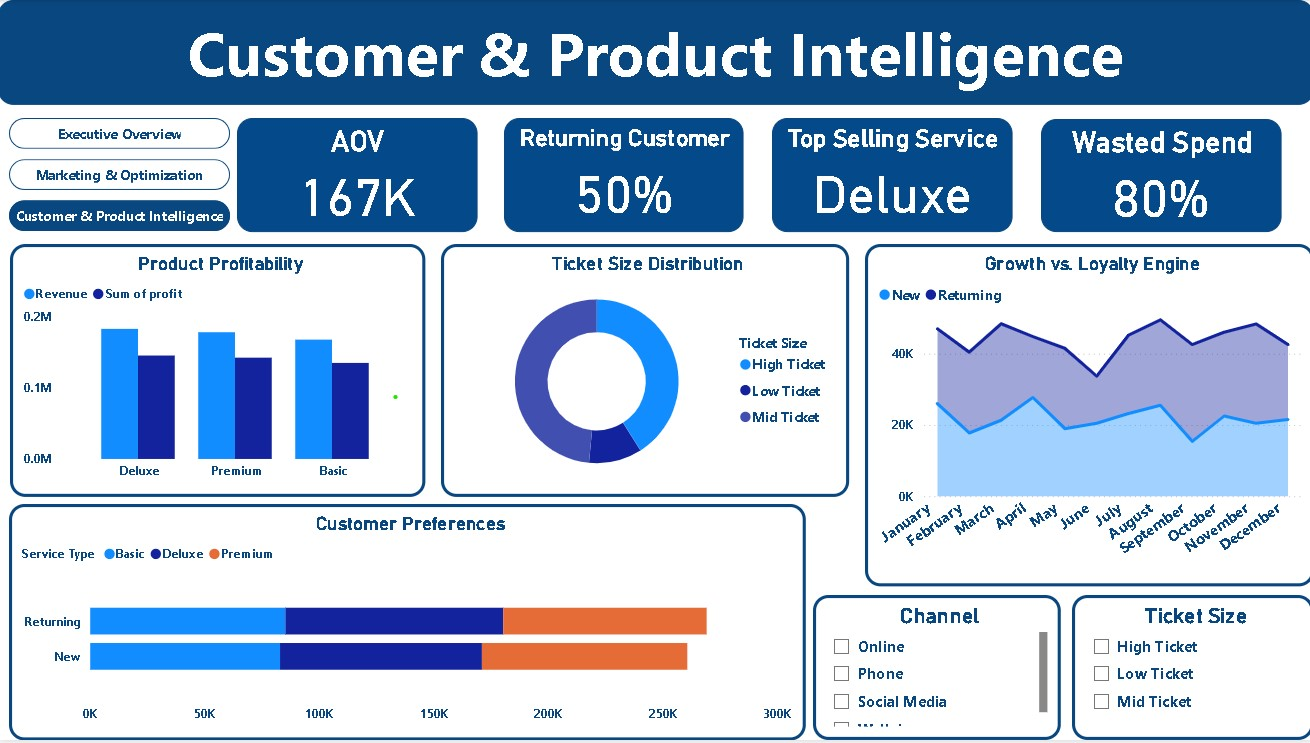

The dashboard page shown, as its layout file describes it:
{"tool":"powerbi","page":{"name":"Customer & Product Intelligence","canvas":[1280,720],"ordinal":2},"visuals":[{"type":"textbox","box":[0,0,1280,102.1],"z":0},{"type":"card","title":"AOV","fields":{"Values":["Sum(Data___Sheet1.AOV)"]},"box":[232.7,115,233.6,110.6],"z":1000},{"type":"card","title":"Returning Customer","fields":{"Values":["Data___Sheet1.Returning Customer %"]},"box":[492.6,115,232.7,110.6],"z":2000},{"type":"card","title":"Wasted Spend","fields":{"Values":["Data___Sheet1.Service Profit Margin %"]},"box":[1014.1,115.9,233.6,109.8],"z":3000},{"type":"card","title":"Top Selling Service","fields":{"Values":["Min(Data___Sheet1.Service Type)"]},"box":[752.5,115,233.6,110.6],"z":4000},{"type":"pageNavigator","box":[10.5,115,215.1,110.6],"z":5000},{"type":"clusteredColumnChart","title":"Product Profitability","fields":{"Category":["Data___Sheet1.Service Type"],"Y":["Data___Sheet1.Revenue","Sum(Data___Sheet1.profit)"]},"box":[11.7,237.3,403.6,246.1],"z":6000},{"type":"donutChart","title":"Ticket Size Distribution","fields":{"Y":["Data___Sheet1.Revenue"],"Series":["Data___Sheet1.Ticket Size"]},"box":[430.9,237.3,396.8,246.1],"z":7000},{"type":"stackedAreaChart","title":"Growth vs. Loyalty Engine","fields":{"Series":["Data___Sheet1.Customer Type"],"Category":["Data___Sheet1.Date.Variation.Date Hierarchy.Month"],"Y":["Data___Sheet1.Revenue"]},"box":[843.3,237.3,436.7,332.6],"z":8000},{"type":"slicer","title":"Channel","fields":{"Values":["Data___Sheet1.Channel"]},"box":[792.7,578.7,241.2,141],"z":9000},{"type":"slicer","title":"Ticket Size ","fields":{"Values":["Data___Sheet1.Ticket Size"]},"box":[1044.6,578.7,235.4,141],"z":10000},{"type":"barChart","title":"Customer Preferences","fields":{"Category":["Data___Sheet1.Customer Type"],"Y":["Data___Sheet1.Revenue"],"Series":["Data___Sheet1.Service Type"]},"box":[10.7,490.2,775.2,229.5],"z":11000}]}

Visuals, with their boxes in screenshot pixels (x1, y1, x2, y2), scaled from the page's 1280x720 canvas onto the 1310x743 screenshot:
textbox: 0,0,1309,105
"AOV" card: 238,119,477,233
"Returning Customer" card: 504,119,742,233
"Wasted Spend" card: 1038,120,1277,233
"Top Selling Service" card: 770,119,1009,233
pageNavigator: 11,119,231,233
"Product Profitability" clusteredColumnChart: 12,245,425,499
"Ticket Size Distribution" donutChart: 441,245,847,499
"Growth vs. Loyalty Engine" stackedAreaChart: 863,245,1309,588
"Channel" slicer: 811,597,1058,742
"Ticket Size " slicer: 1069,597,1309,742
"Customer Preferences" barChart: 11,506,804,742
